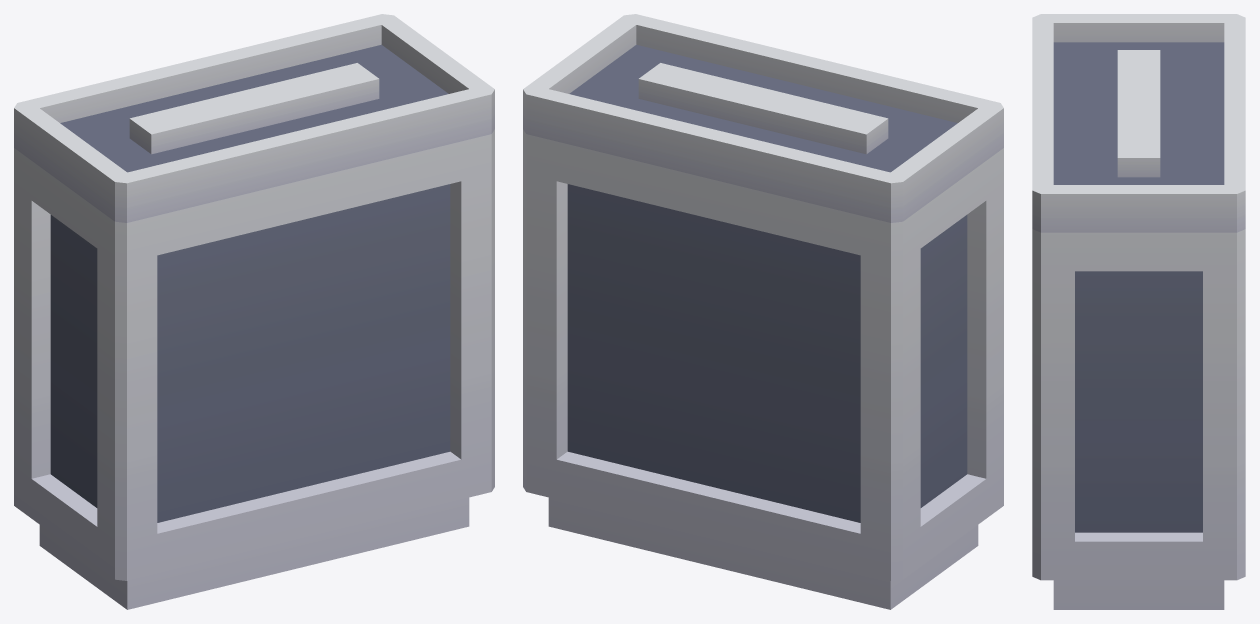
File: commercial__low-detail-building-wide-a.glb
The picture shows the model from 3 angles, left to right: view 1: azimuth 30°, elevation 25°; view 2: azimuth 150°, elevation 25°; view 3: azimuth 270°, elevation 25°; orthographic projection. The views are drawn at different scales.
Visible parts, largest first — view 1: low-detail-building-wide-a; view 2: low-detail-building-wide-a; view 3: low-detail-building-wide-a.
Part boxes in pixels (x1,y1,x2,y2): low-detail-building-wide-a: [14, 14, 494, 609]; low-detail-building-wide-a: [523, 14, 1003, 609]; low-detail-building-wide-a: [1032, 14, 1245, 609].
Size of the model in its own units: 1 by 1.1 by 0.5.
Materials: 1 (1 with a texture image).
